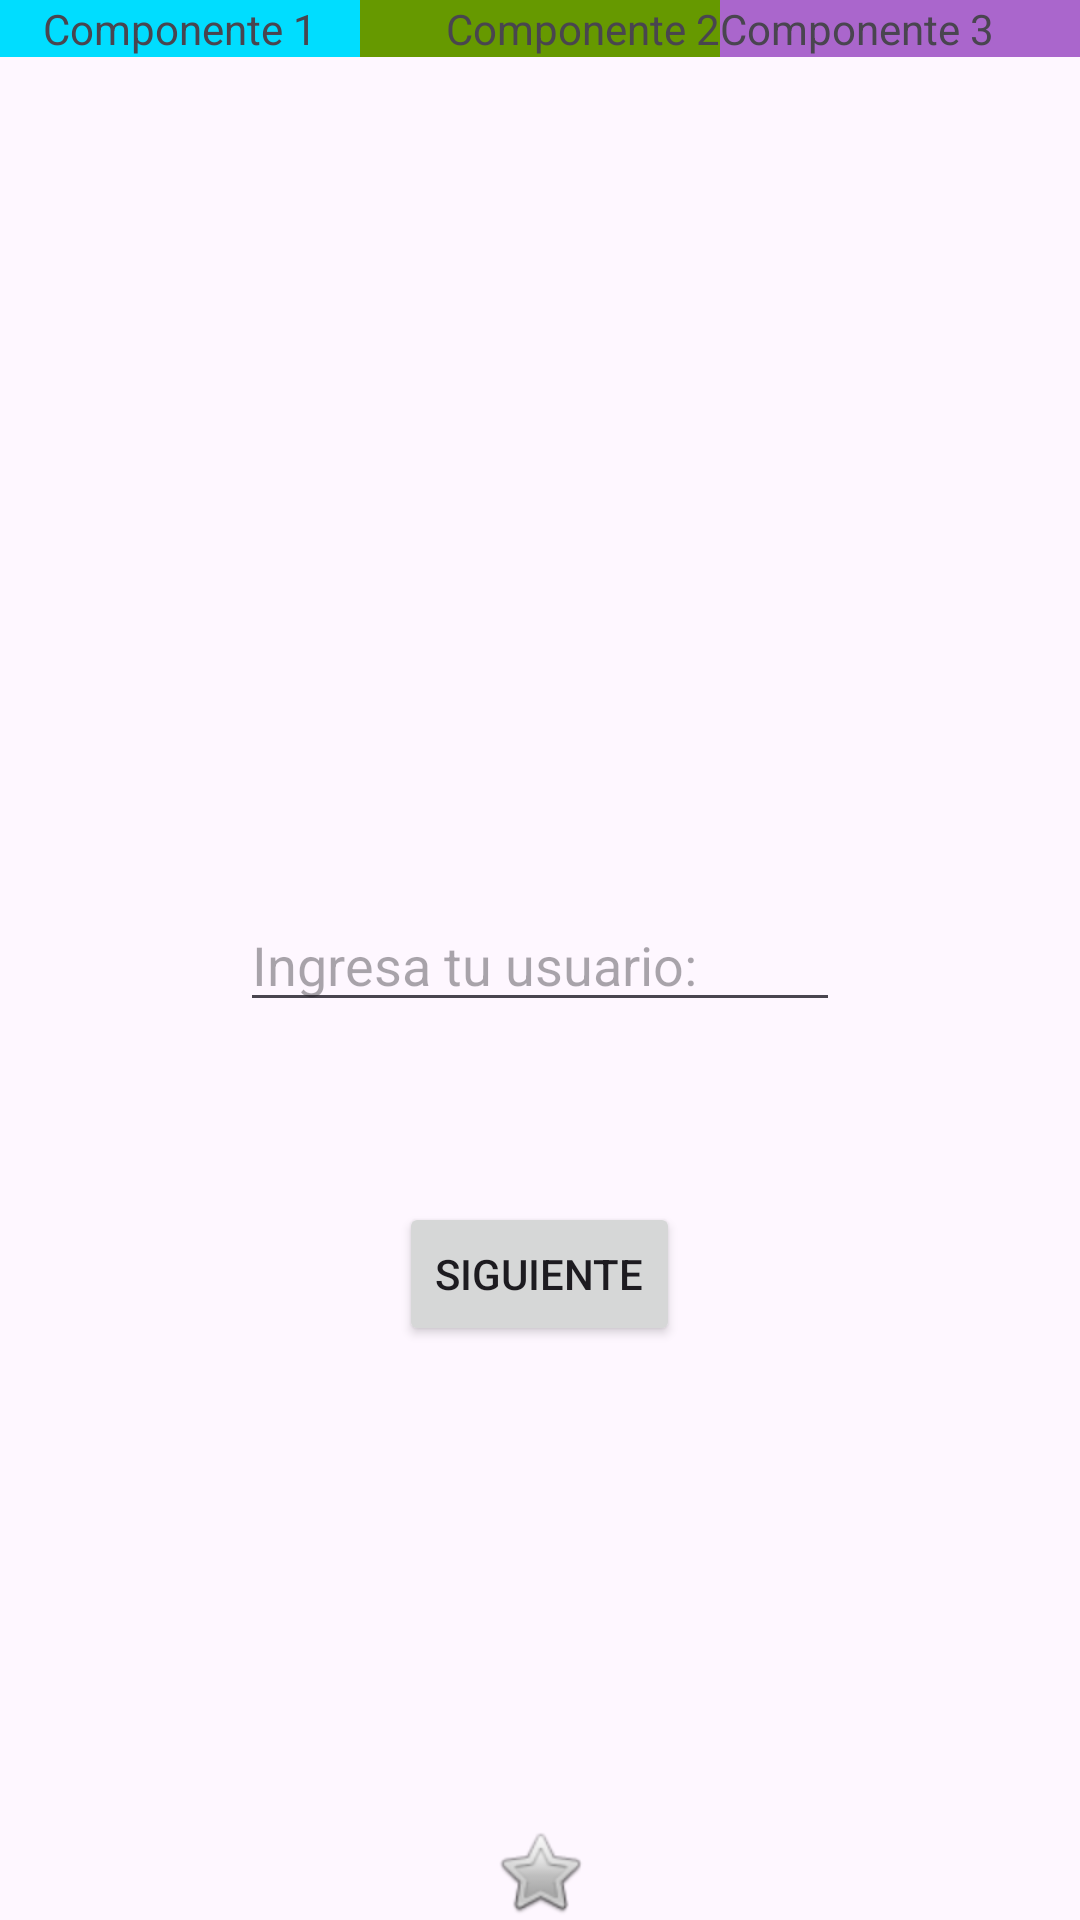

Screen size 1080px x 1920px. Icon name, then its center in pixels as (x=x, y=y):
star: (x=541, y=1873)
